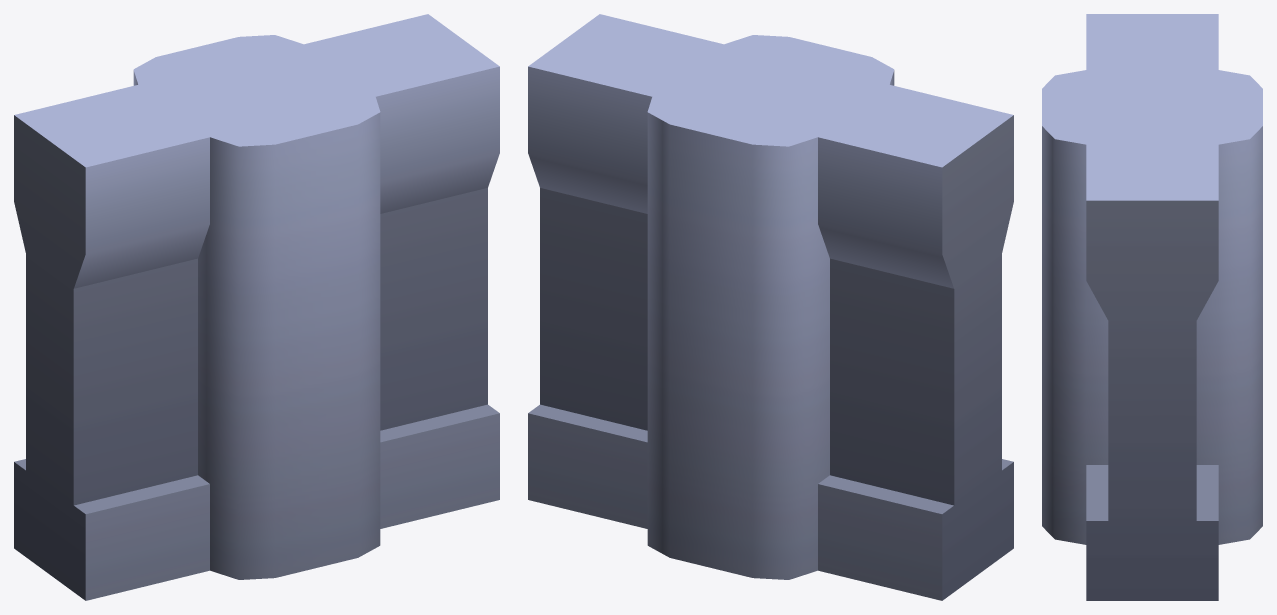
File: kenney-space-station-wall-pillar.glb
3 renders of one model, left to right at view 1: azimuth 30°, elevation 25°; view 2: azimuth 150°, elevation 25°; view 3: azimuth 270°, elevation 25°, orthographic. The views are drawn at different scales.
Visible parts, largest first — view 1: wall-pillar; view 2: wall-pillar; view 3: wall-pillar.
Part boxes in pixels (x1=…): wall-pillar: x1=14, y1=14, x2=499, y2=600; wall-pillar: x1=528, y1=14, x2=1013, y2=600; wall-pillar: x1=1042, y1=14, x2=1262, y2=600.
Size of the model in its own units: 1 by 1 by 0.5001.
1 material, 1 textured.
